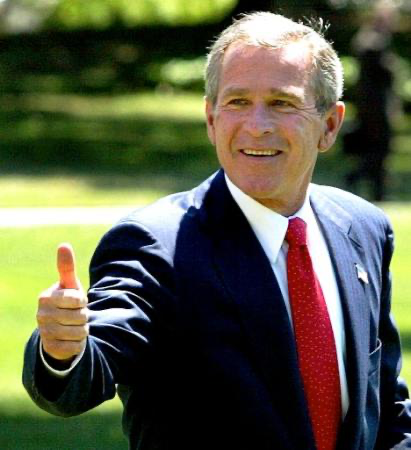Face: (217, 49, 318, 193)
